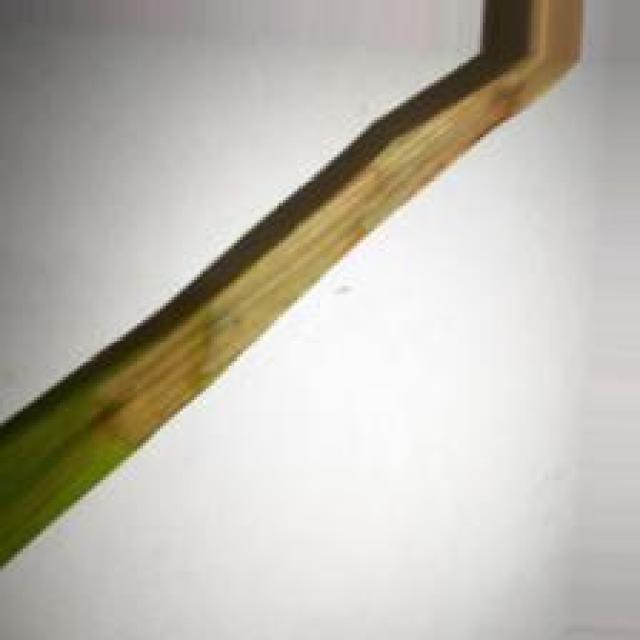Rice False Smut: (80, 0, 582, 446)
